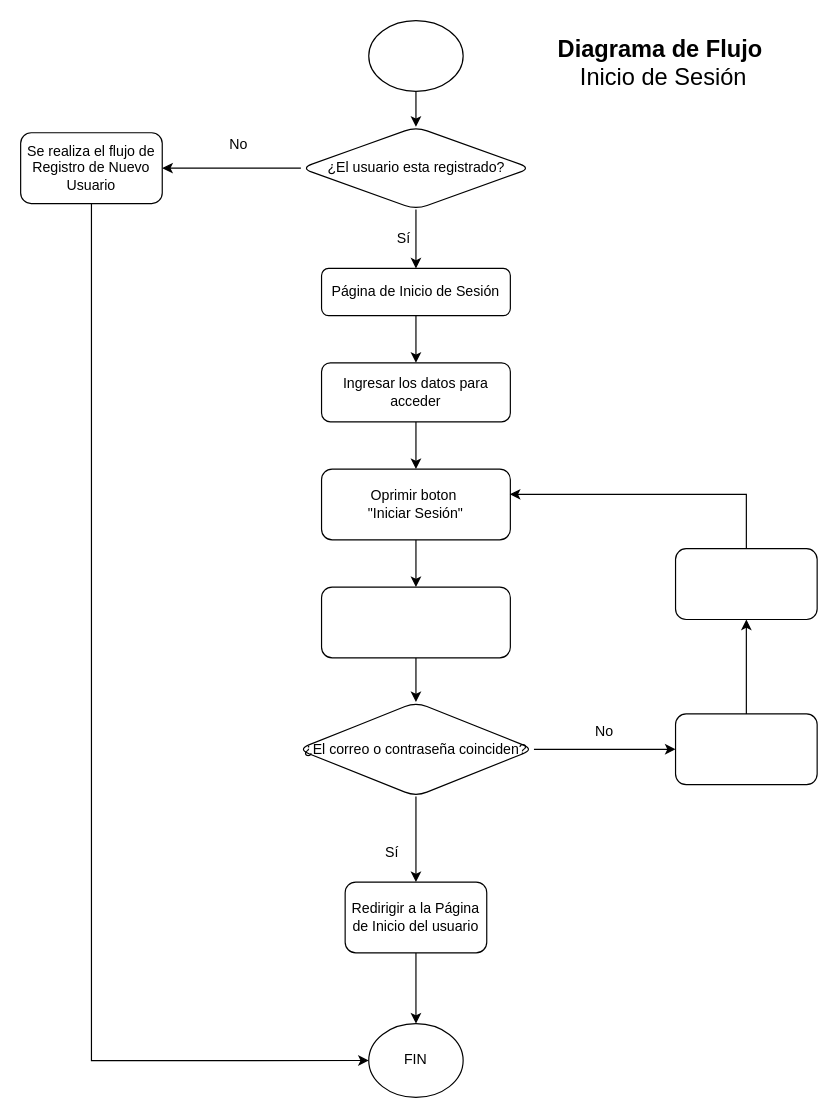
The diagram is 838 pixels wide and 1119 high, and some of its shapes have lost their labels. The box of each missing label's shape, as (x1, y1, x2, y2) in pixels:
INICIO: (368, 19, 463, 91)
Mensaje de error: (674, 713, 817, 785)
Validar datos ingresador con base de datos: (320, 586, 510, 658)
Volver a ingresar los datos: (674, 548, 817, 620)
